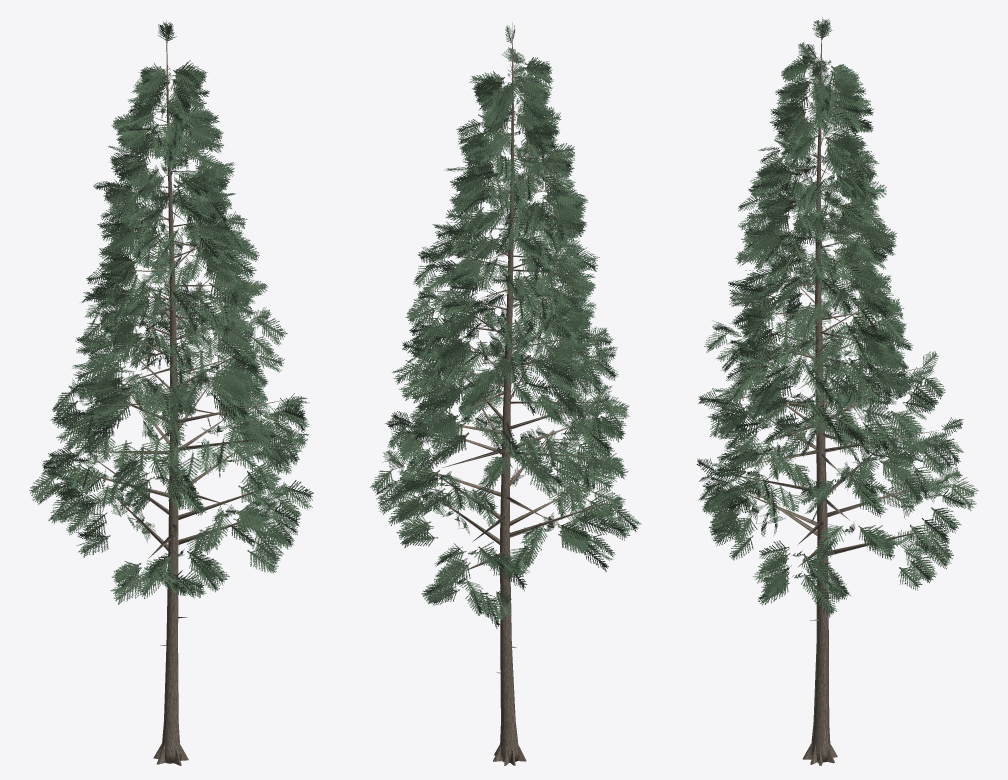
Rendered from SS_Defect_CoarseBranch_Young_01_LOD2.fbx.
The picture shows the model from 3 angles, left to right: view 1: azimuth 30°, elevation 25°; view 2: azimuth 150°, elevation 25°; view 3: azimuth 270°, elevation 25°; orthographic projection.
Visible parts, largest first — view 1: SS_Defect_CoarseBranch_Young_01_LOD2_Foliage, SS_Defect_CoarseBranch_Young_01_LOD2_Trunk, SS_Defect_CoarseBranch_Young_01_LOD2_Branches; view 2: SS_Defect_CoarseBranch_Young_01_LOD2_Foliage, SS_Defect_CoarseBranch_Young_01_LOD2_Trunk, SS_Defect_CoarseBranch_Young_01_LOD2_Branches; view 3: SS_Defect_CoarseBranch_Young_01_LOD2_Foliage, SS_Defect_CoarseBranch_Young_01_LOD2_Trunk, SS_Defect_CoarseBranch_Young_01_LOD2_Branches.
Boxes of the visible parts, box(x1,y1,x2,y2) form: SS_Defect_CoarseBranch_Young_01_LOD2_Foliage: box(29, 21, 313, 604); SS_Defect_CoarseBranch_Young_01_LOD2_Trunk: box(153, 20, 188, 765); SS_Defect_CoarseBranch_Young_01_LOD2_Branches: box(60, 65, 286, 645); SS_Defect_CoarseBranch_Young_01_LOD2_Foliage: box(369, 25, 641, 628); SS_Defect_CoarseBranch_Young_01_LOD2_Trunk: box(493, 22, 526, 765); SS_Defect_CoarseBranch_Young_01_LOD2_Branches: box(397, 61, 609, 673); SS_Defect_CoarseBranch_Young_01_LOD2_Foliage: box(696, 19, 978, 617); SS_Defect_CoarseBranch_Young_01_LOD2_Trunk: box(802, 17, 837, 765); SS_Defect_CoarseBranch_Young_01_LOD2_Branches: box(721, 57, 944, 675).
Size of the model in its own units: 422 by 1150 by 438.
Materials: 2 (2 with a texture image).
